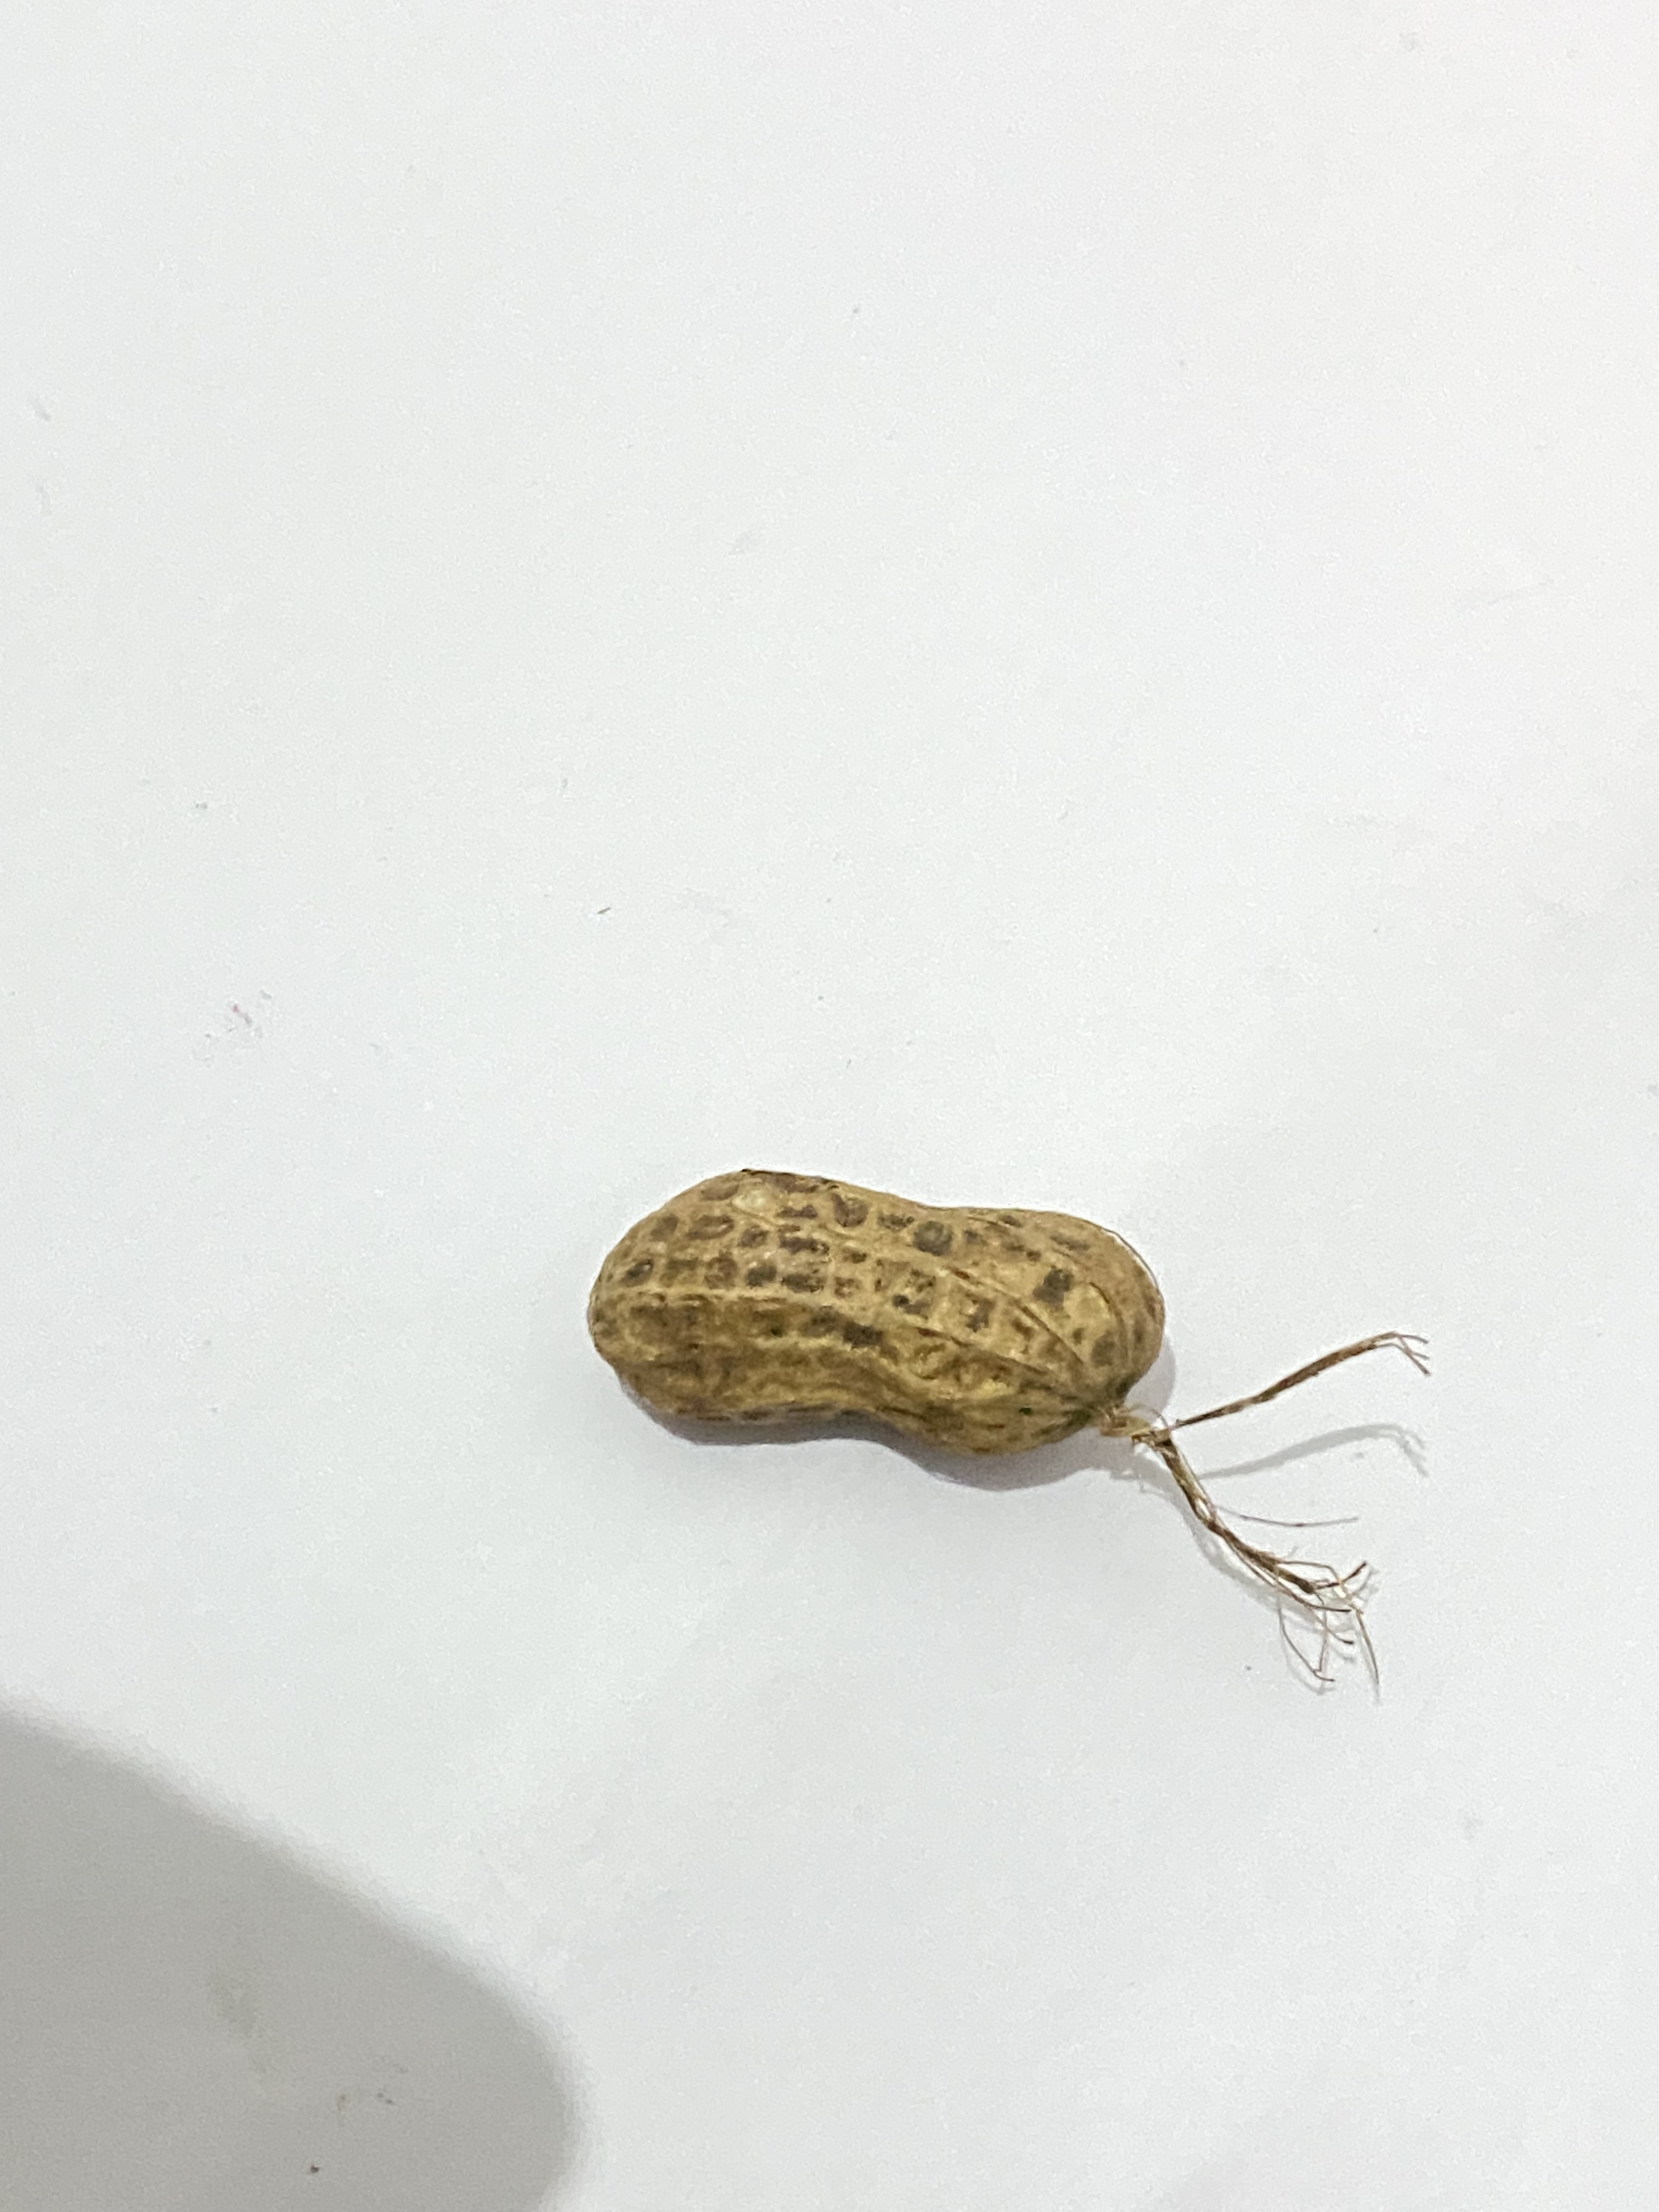kacang2: (537, 1134, 1197, 1474)
